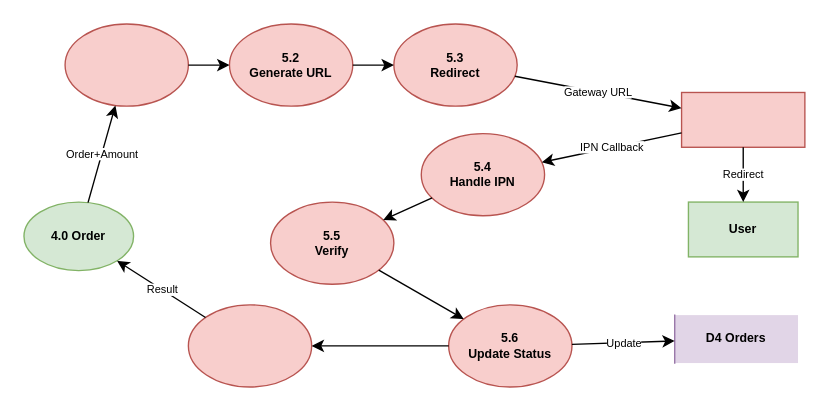
Image size: 829x411. Some labels were removed from this diagram. Each missing label, with the centre of its shape:
5.1 Init Payment: the point at 126,64
5.7 Return Result: the point at 249,345
SSLCommerz: the point at 742,119
